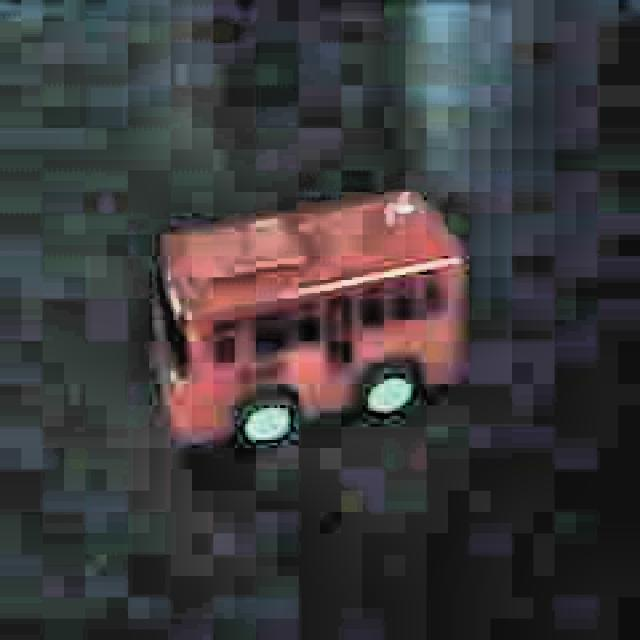bus: (144, 181, 482, 462)
